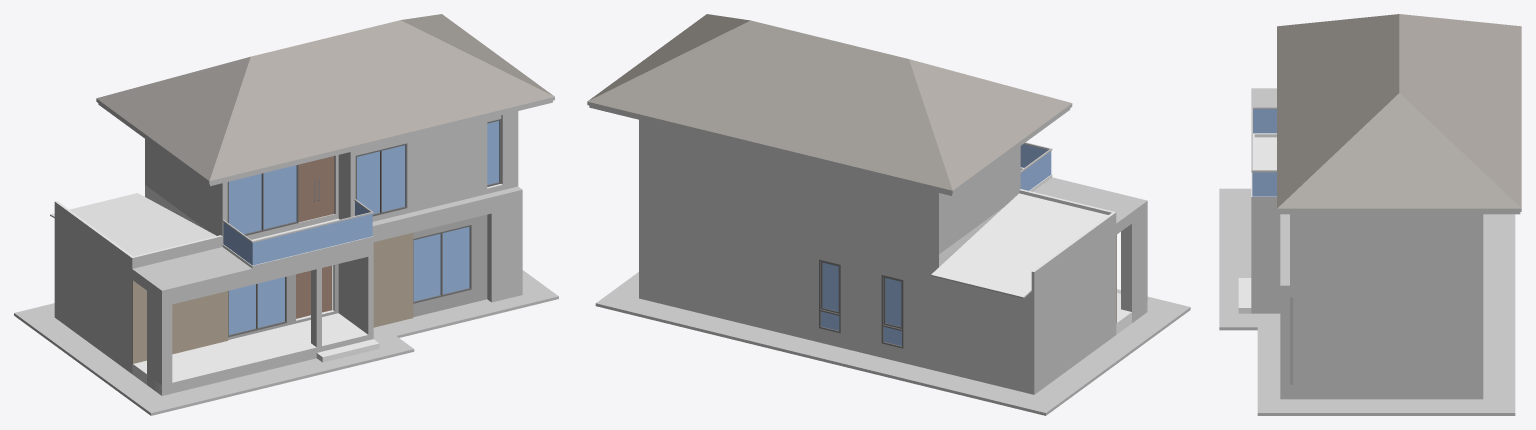
File: ConstructionAR_House.glb
The picture shows the model from 3 angles, left to right: view 1: azimuth 30°, elevation 25°; view 2: azimuth 150°, elevation 25°; view 3: azimuth 270°, elevation 25°; orthographic projection. The views are drawn at different scales.
Parts seen in each view (by area): view 1: Group103, Group2, Group1, Group112, Group3, Group91, Group131, Group108, Group138, Group107, Group100, Group116 (+19 smaller); view 2: Group103, Group3, Group107, Group2, Group138, Group108, Group1, Group102, Group71, Group131, Group133, Group66 (+1 smaller); view 3: Group103, Group2, Group3, Group107, Group108, Group1, Group101, Group5, Group91, Group131, Group102, Group111 (+7 smaller).
Boxes of the visible parts, x1,y1,x2,y2 form: Group103: [96, 14, 554, 180]; Group2: [14, 270, 558, 415]; Group1: [54, 286, 487, 395]; Group112: [347, 111, 518, 217]; Group3: [54, 223, 338, 360]; Group91: [372, 186, 522, 302]; Group131: [132, 218, 373, 301]; Group108: [54, 181, 518, 279]; Group138: [50, 193, 216, 256]; Group107: [145, 139, 338, 240]; Group100: [132, 280, 228, 363]; Group116: [229, 165, 296, 233]; Group103: [587, 14, 1071, 190]; Group3: [639, 199, 1116, 380]; Group107: [639, 120, 1020, 254]; Group2: [595, 272, 1190, 415]; Group138: [931, 193, 1108, 298]; Group108: [639, 181, 1116, 294]; Group1: [639, 284, 1147, 394]; Group102: [587, 101, 1072, 195]; Group71: [1121, 212, 1147, 322]; Group131: [1020, 167, 1147, 234]; Group133: [1020, 144, 1051, 190]; Group66: [822, 262, 838, 311]; Group103: [1277, 14, 1521, 208]; Group2: [1219, 188, 1515, 415]; Group3: [1322, 297, 1483, 384]; Group107: [1315, 214, 1483, 279]; Group108: [1290, 280, 1483, 297]; Group1: [1251, 302, 1483, 399]; Group101: [1251, 211, 1280, 313]; Group5: [1293, 297, 1315, 384]; Group91: [1280, 214, 1289, 399]; Group131: [1251, 88, 1276, 211]; Group102: [1277, 208, 1521, 214]; Group111: [1296, 214, 1315, 279].
Bounding box in the file's own units: 16.7 × 9.39 × 9.4.
